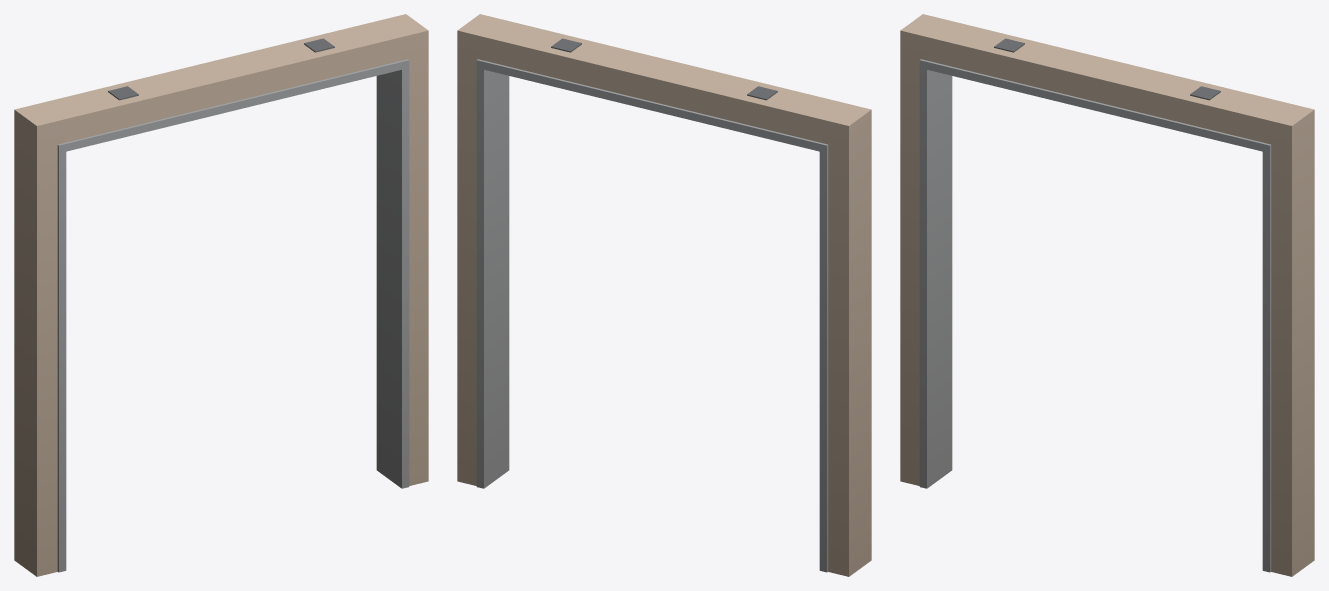
File: openFrame_regocrete.glb
3 views of the same model, side by side, from view 1: azimuth 30°, elevation 25°; view 2: azimuth 150°, elevation 25°; view 3: azimuth 330°, elevation 25° (orthographic).
Parts seen in each view (by area): view 1: openFrame_regocrete; view 2: openFrame_regocrete; view 3: openFrame_regocrete.
Boxes of the visible parts, x1,y1,x2,y2 form: openFrame_regocrete: (14, 14, 428, 576); openFrame_regocrete: (457, 14, 871, 576); openFrame_regocrete: (900, 14, 1314, 576).
Size of the model in its own units: 2 by 2.21 by 0.224.
